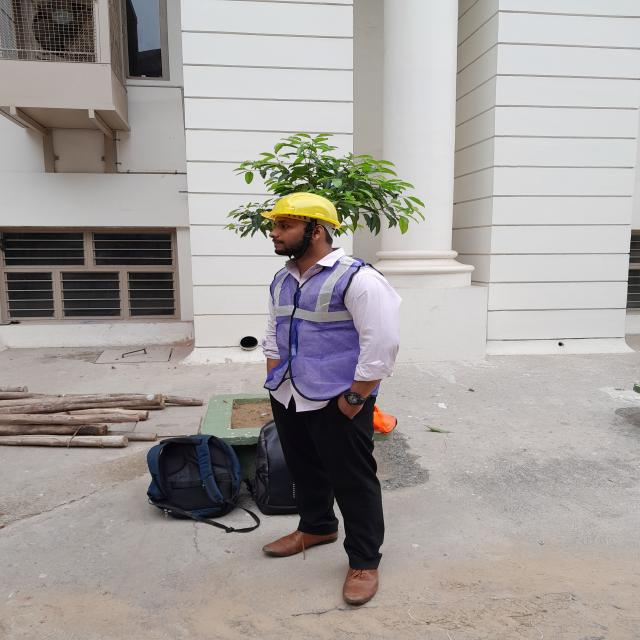safe: (260, 193, 405, 604)
